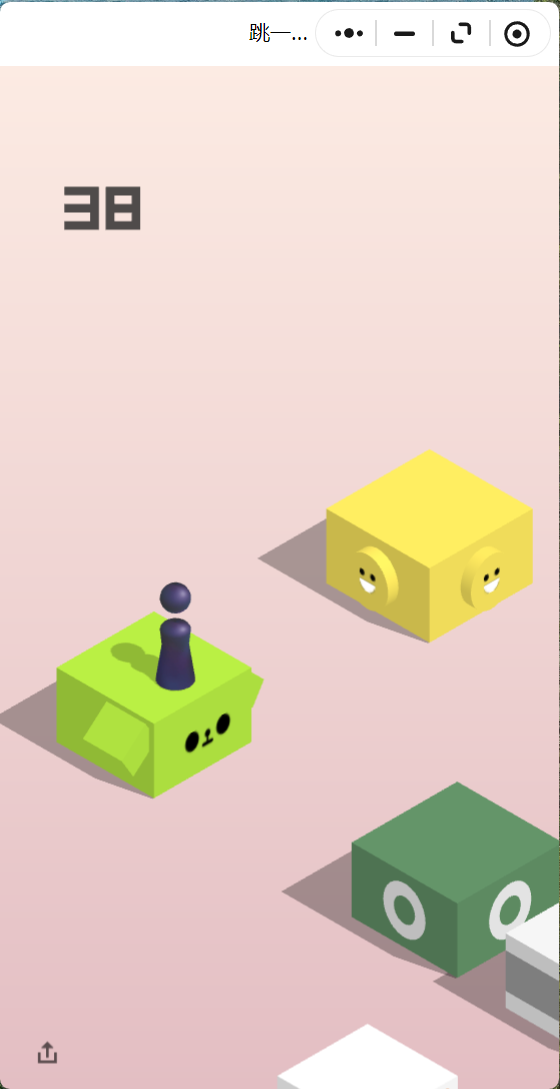piece: (160, 582, 190, 685)
target: (327, 450, 532, 566)
